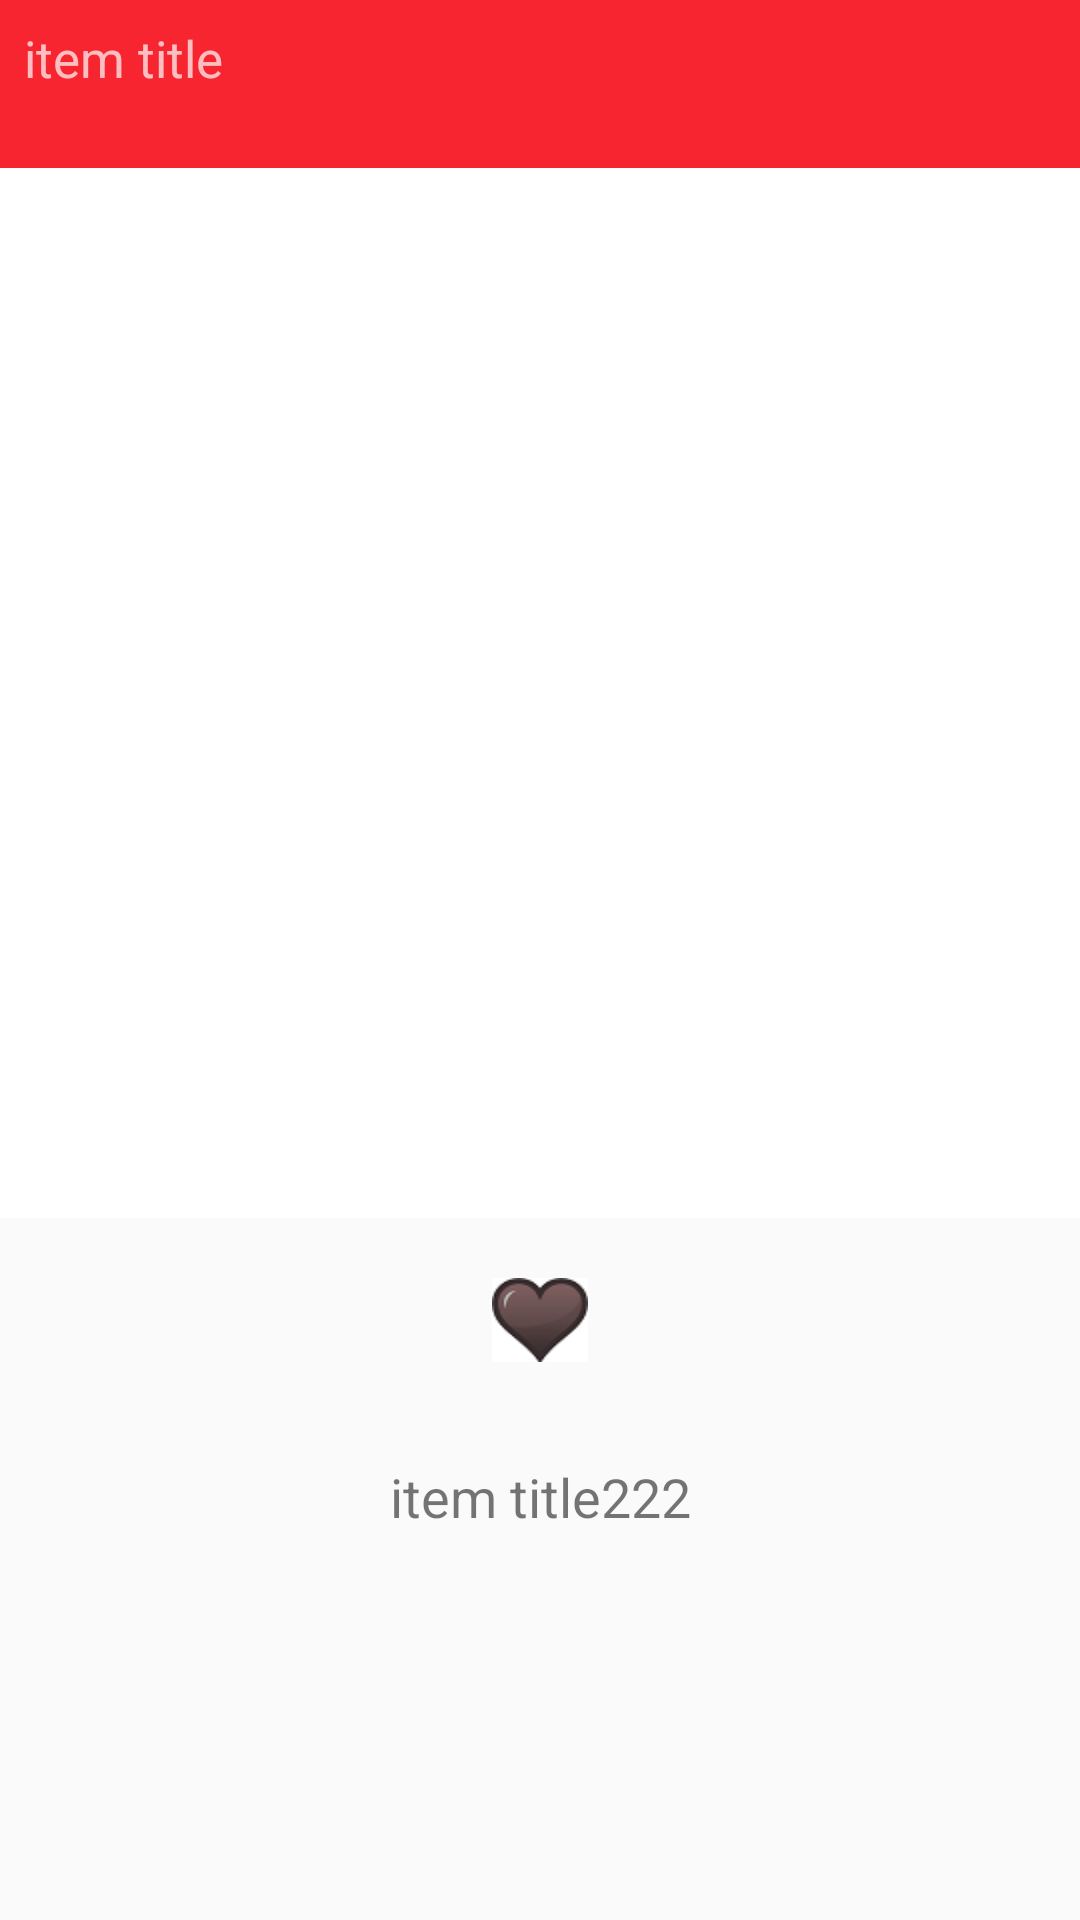

Point at icon controls on the screen. Image size 1080px×1920px, points as (x,y).
unfavorite: (540,1320)
